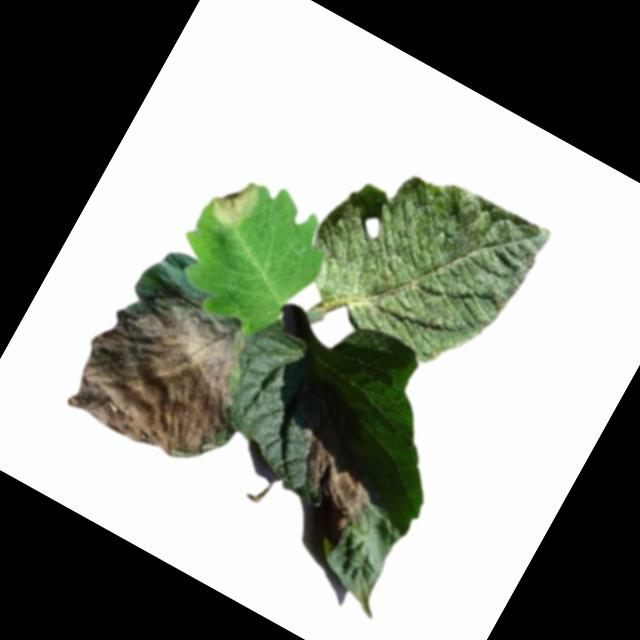Late_blight: (57, 263, 274, 480), (267, 435, 386, 556), (203, 167, 266, 235)
healthy: (290, 133, 552, 380)
